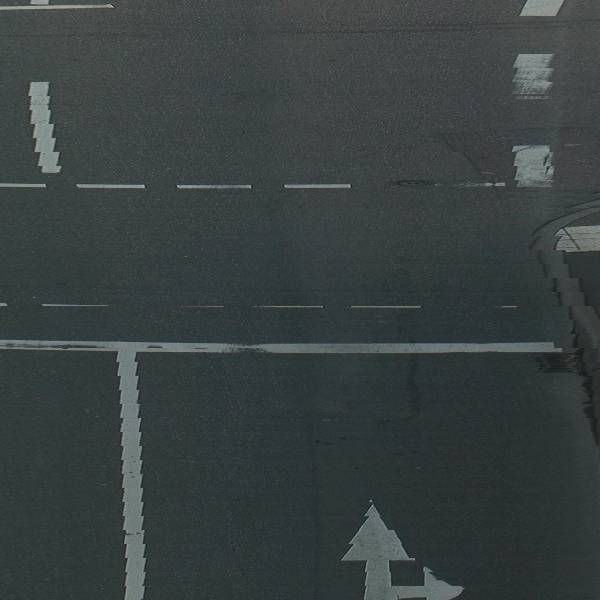road_damage: (290, 362, 330, 600), (435, 128, 529, 197), (268, 18, 515, 43), (373, 353, 428, 435)
